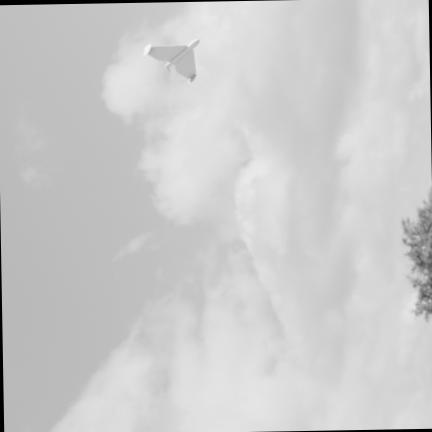Shahed: (140, 38, 200, 84)
